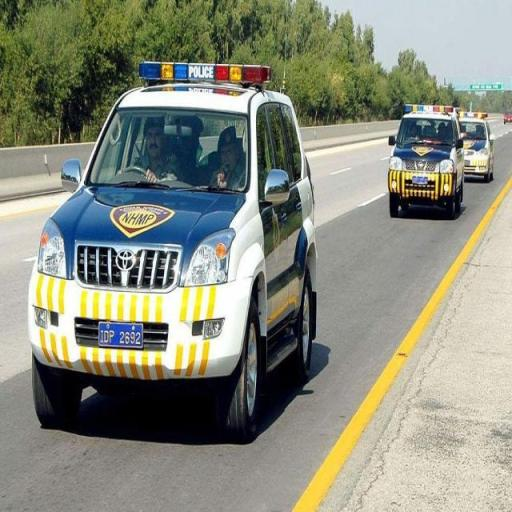Ambulance: (32, 54, 326, 444), (390, 94, 468, 229)
